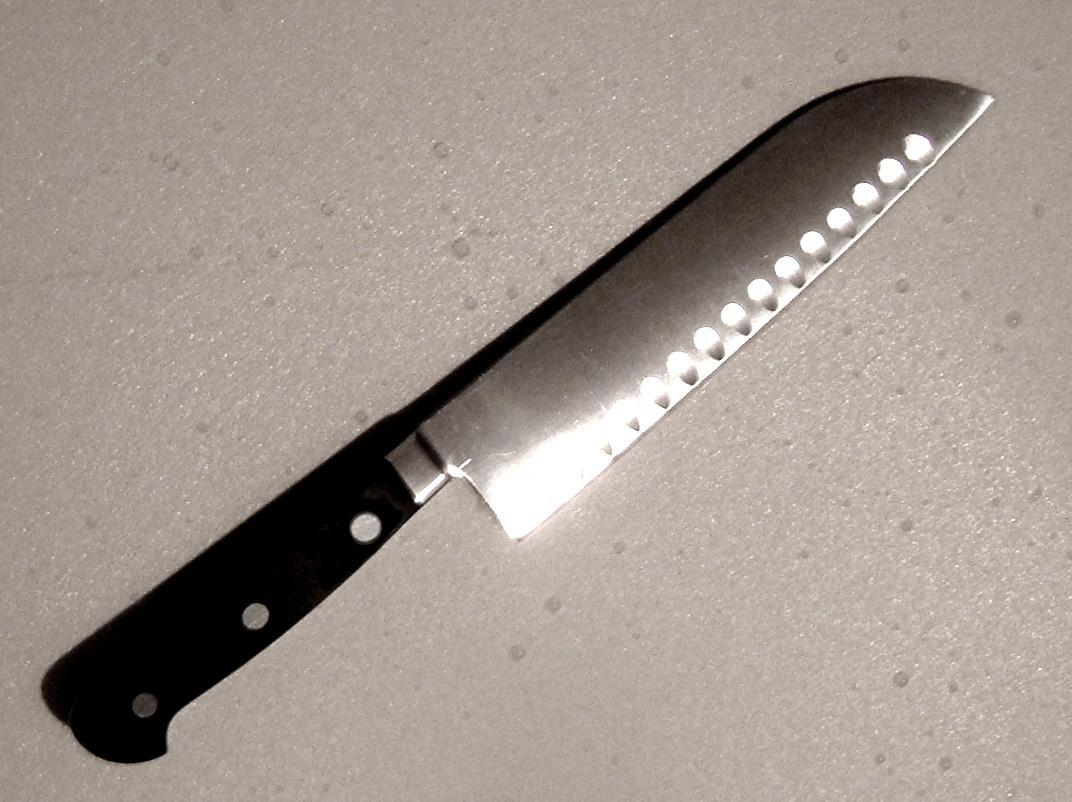faca: (44, 78, 990, 762)
